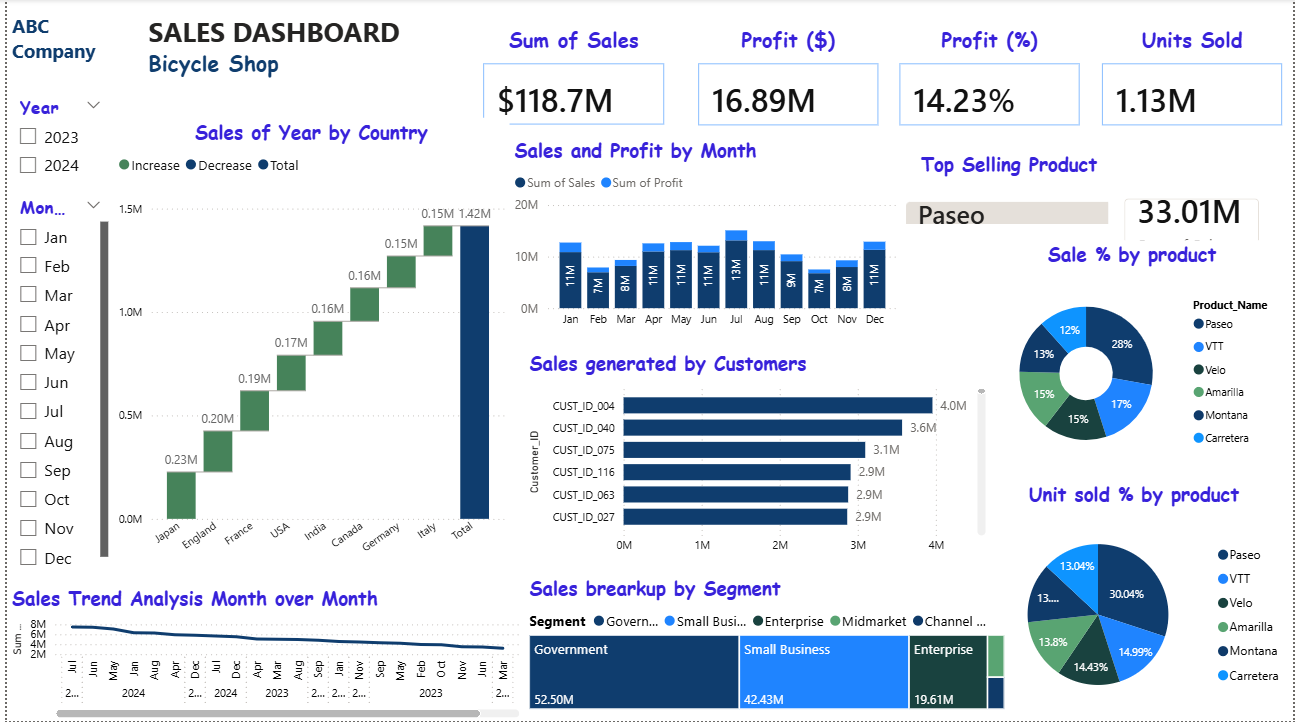

This screenshot's page, from the dashboard's own definition file:
{"tool":"powerbi","page":{"name":"Page 1","canvas":[1280,720],"ordinal":0},"visuals":[{"type":"cardVisual","title":"Sum of Sales ","fields":{"Data":["Sum(Sales Data.Sales)"]},"box":[462.8,24.9,202.8,112],"z":0},{"type":"cardVisual","title":"Profit ($)","fields":{"Data":["Sum(Sales Data.Profit)"]},"box":[676.6,25.2,201.7,112.1],"z":1000},{"type":"cardVisual","title":"Profit (%) ","fields":{"Data":["Sales Data.Profit marging"]},"box":[876.9,25.2,201.7,112.1],"z":2000},{"type":"cardVisual","title":"Units Sold","fields":{"Data":["Sum(Sales Data.Units Sold)"]},"box":[1078.6,25.2,201.7,112.1],"z":3000},{"type":"cardVisual","title":"Top Selling Product ","fields":{"Rows":["Sales Data.Product_Name"]},"box":[890.7,150.5,214,121.9],"z":4000},{"type":"cardVisual","title":"Top Selling Product ","fields":{"Data":["Sum(Sales Data.Sales)"]},"box":[1095.9,181.6,167.9,79.6],"z":5000},{"type":"donutChart","title":"Sale % by product ","fields":{"Category":["Sales Data.Product_Name"],"Y":["Sum(Sales Data.Sales)"]},"box":[962.8,240.1,313.5,238.8],"z":6000},{"type":"pieChart","title":"Unit sold % by product","fields":{"Y":["Sum(Sales Data.Units Sold)"],"Category":["Sales Data.Product_Name"]},"box":[962.8,478.9,317.2,241.3],"z":7000},{"type":"treemap","title":" Sales brearkup by Segment","fields":{"Group":["Sales Data.Segment"],"Values":["Sum(Sales Data.Sales)"]},"box":[515,572.2,482.7,139.3],"z":8000},{"type":"lineChart","title":"Sales Trend Analysis Month  over Month","fields":{"Y":["Sum(Sales Data.Sales)"],"Category":["Sales Data.Year","Sales Data.Month Name"]},"box":[0,582.2,515,138.1],"z":9000},{"type":"slicer","fields":{"Values":["Sales Data.Year"]},"box":[0,90.8,105.7,99.5],"z":10000},{"type":"slicer","fields":{"Values":["Sales Data.Month Name"]},"box":[0,190.3,105.7,381.9],"z":11000},{"type":"textbox","box":[135.6,8.7,327.2,82.1],"z":12000},{"type":"clusteredBarChart","title":"Sales generated by Customers","fields":{"Category":["Sales Data.Customer_ID"],"Y":["Sum(Sales Data.Sales)"]},"box":[515,348.3,464,212.7],"z":13000},{"type":"columnChart","title":"Sales and Profit by Month ","fields":{"Y":["Sum(Sales Data.Sales)","Sum(Sales Data.Profit)"],"Category":["Sales Data.Month Name"]},"box":[500.1,136.8,390.6,199],"z":14000},{"type":"waterfallChart","title":"Sales of Year  by Country","fields":{"Category":["Sales Data.Country"],"Y":["Sum(Sales Data.Year)"]},"box":[105.7,118.2,394.3,444.1],"z":15000},{"type":"textbox","box":[0,8.7,115.7,72.1],"z":16000}]}

Visuals, with their boxes in screenshot pixels (x1, y1, x2, y2), scaled from the page's 1280x720 canvas onto the 1295x722 screenshot:
"Sum of Sales " cardVisual: {"left": 468, "top": 25, "right": 673, "bottom": 137}
"Profit ($)" cardVisual: {"left": 685, "top": 25, "right": 889, "bottom": 138}
"Profit (%) " cardVisual: {"left": 887, "top": 25, "right": 1091, "bottom": 138}
"Units Sold" cardVisual: {"left": 1091, "top": 25, "right": 1294, "bottom": 138}
"Top Selling Product " cardVisual: {"left": 901, "top": 151, "right": 1118, "bottom": 273}
"Top Selling Product " cardVisual: {"left": 1109, "top": 182, "right": 1279, "bottom": 262}
"Sale % by product " donutChart: {"left": 974, "top": 241, "right": 1291, "bottom": 480}
"Unit sold % by product" pieChart: {"left": 974, "top": 480, "right": 1294, "bottom": 721}
" Sales brearkup by Segment" treemap: {"left": 521, "top": 574, "right": 1009, "bottom": 713}
"Sales Trend Analysis Month  over Month" lineChart: {"left": 0, "top": 584, "right": 521, "bottom": 721}
slicer - Sales Data.Year: {"left": 0, "top": 91, "right": 107, "bottom": 191}
slicer - Sales Data.Month Name: {"left": 0, "top": 191, "right": 107, "bottom": 574}
textbox: {"left": 137, "top": 9, "right": 468, "bottom": 91}
"Sales generated by Customers" clusteredBarChart: {"left": 521, "top": 349, "right": 990, "bottom": 563}
"Sales and Profit by Month " columnChart: {"left": 506, "top": 137, "right": 901, "bottom": 337}
"Sales of Year  by Country" waterfallChart: {"left": 107, "top": 119, "right": 506, "bottom": 564}
textbox: {"left": 0, "top": 9, "right": 117, "bottom": 81}
